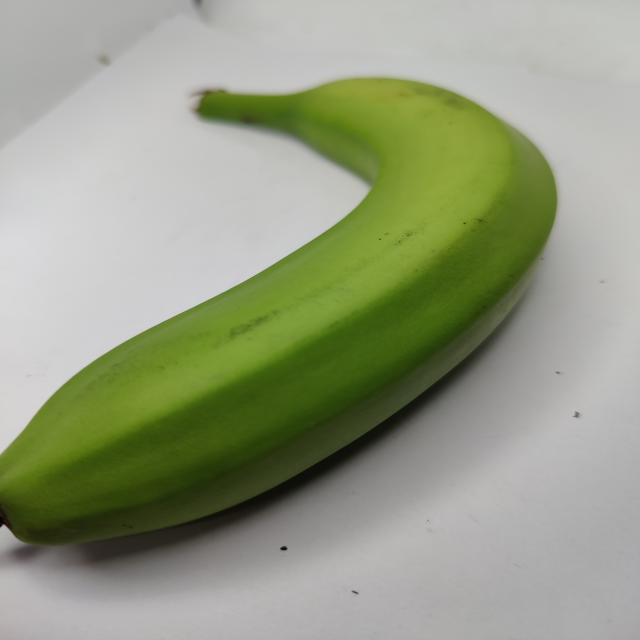raw: (0, 42, 590, 584)
